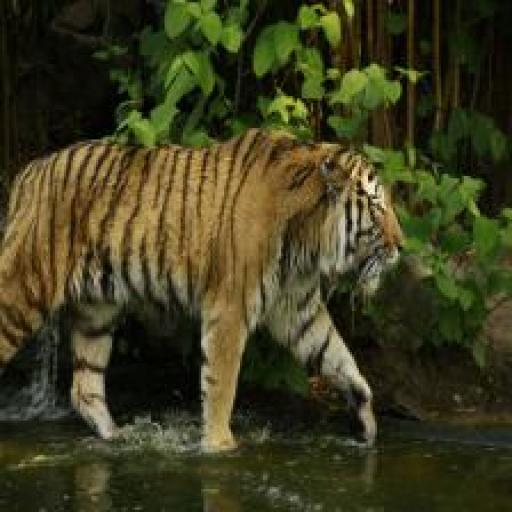Tiger: (4, 96, 431, 479)
